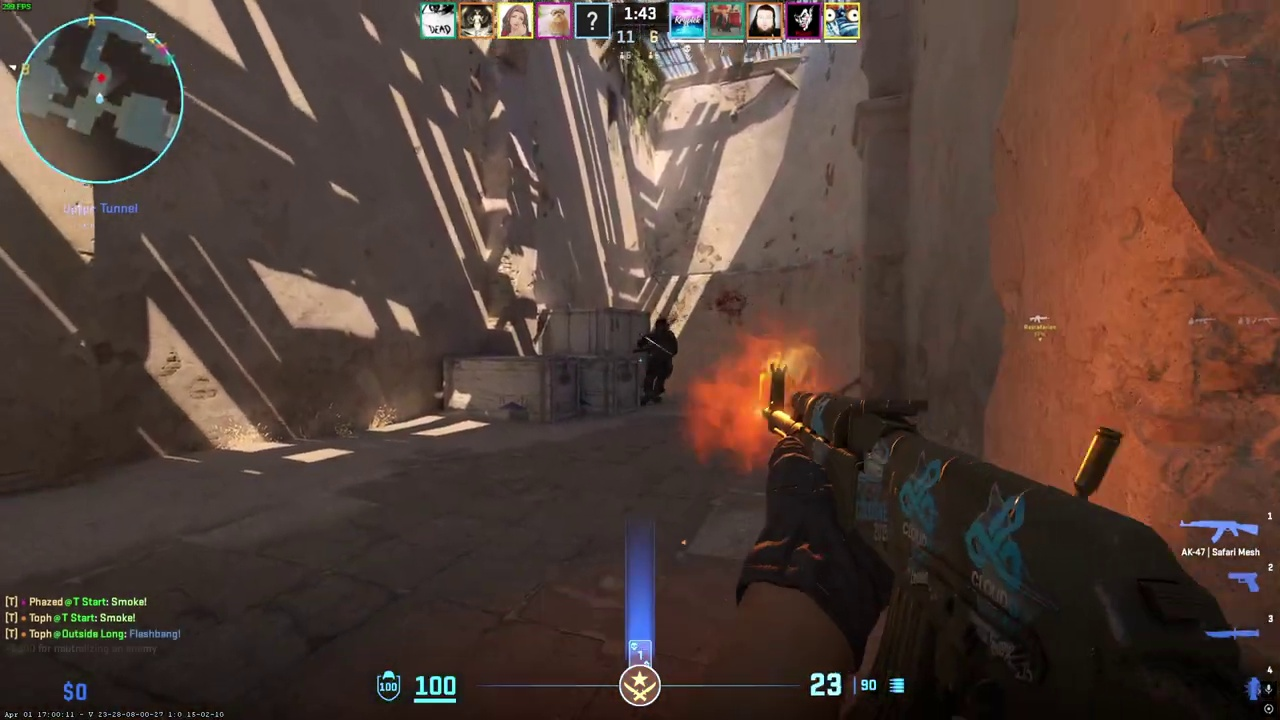CT: (638, 317, 677, 406)
